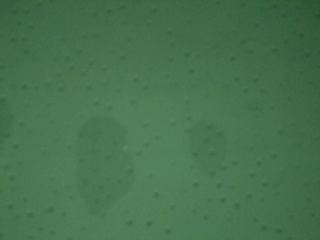Water_detected: (74, 127, 136, 203), (182, 127, 217, 174)
